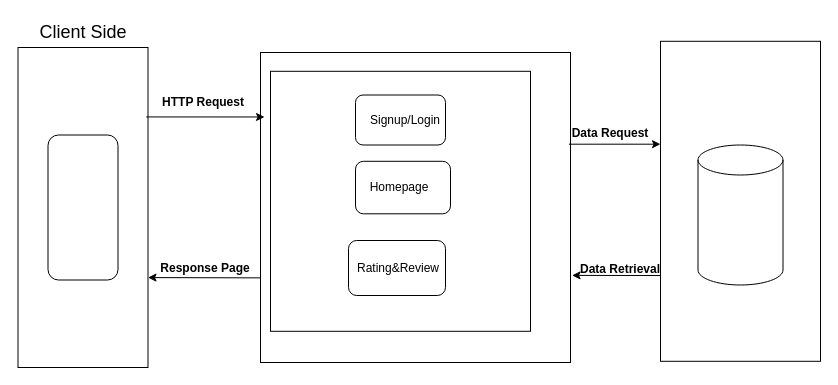
The diagram is 838 pixels wide and 385 high, and some of its shapes have lost their labels. The shapes that lost their labels are listed below. From the top down, each one's centre as x and y in pixels, then its label:
the point at 82,207: Browser
the point at 740,214: Database
